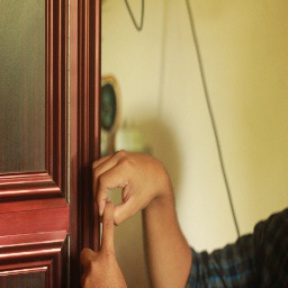Q: (86, 146, 167, 271)
